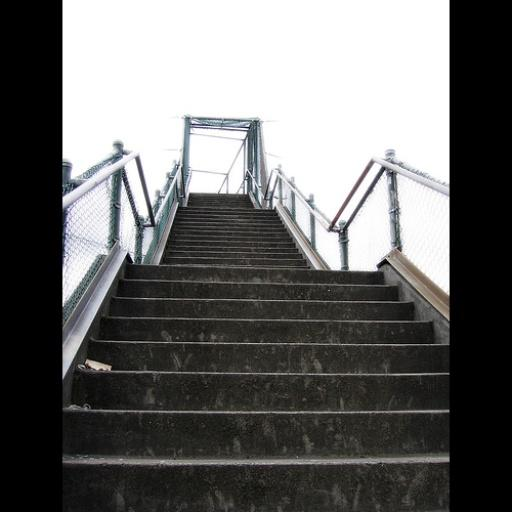stairs: (63, 194, 448, 511)
